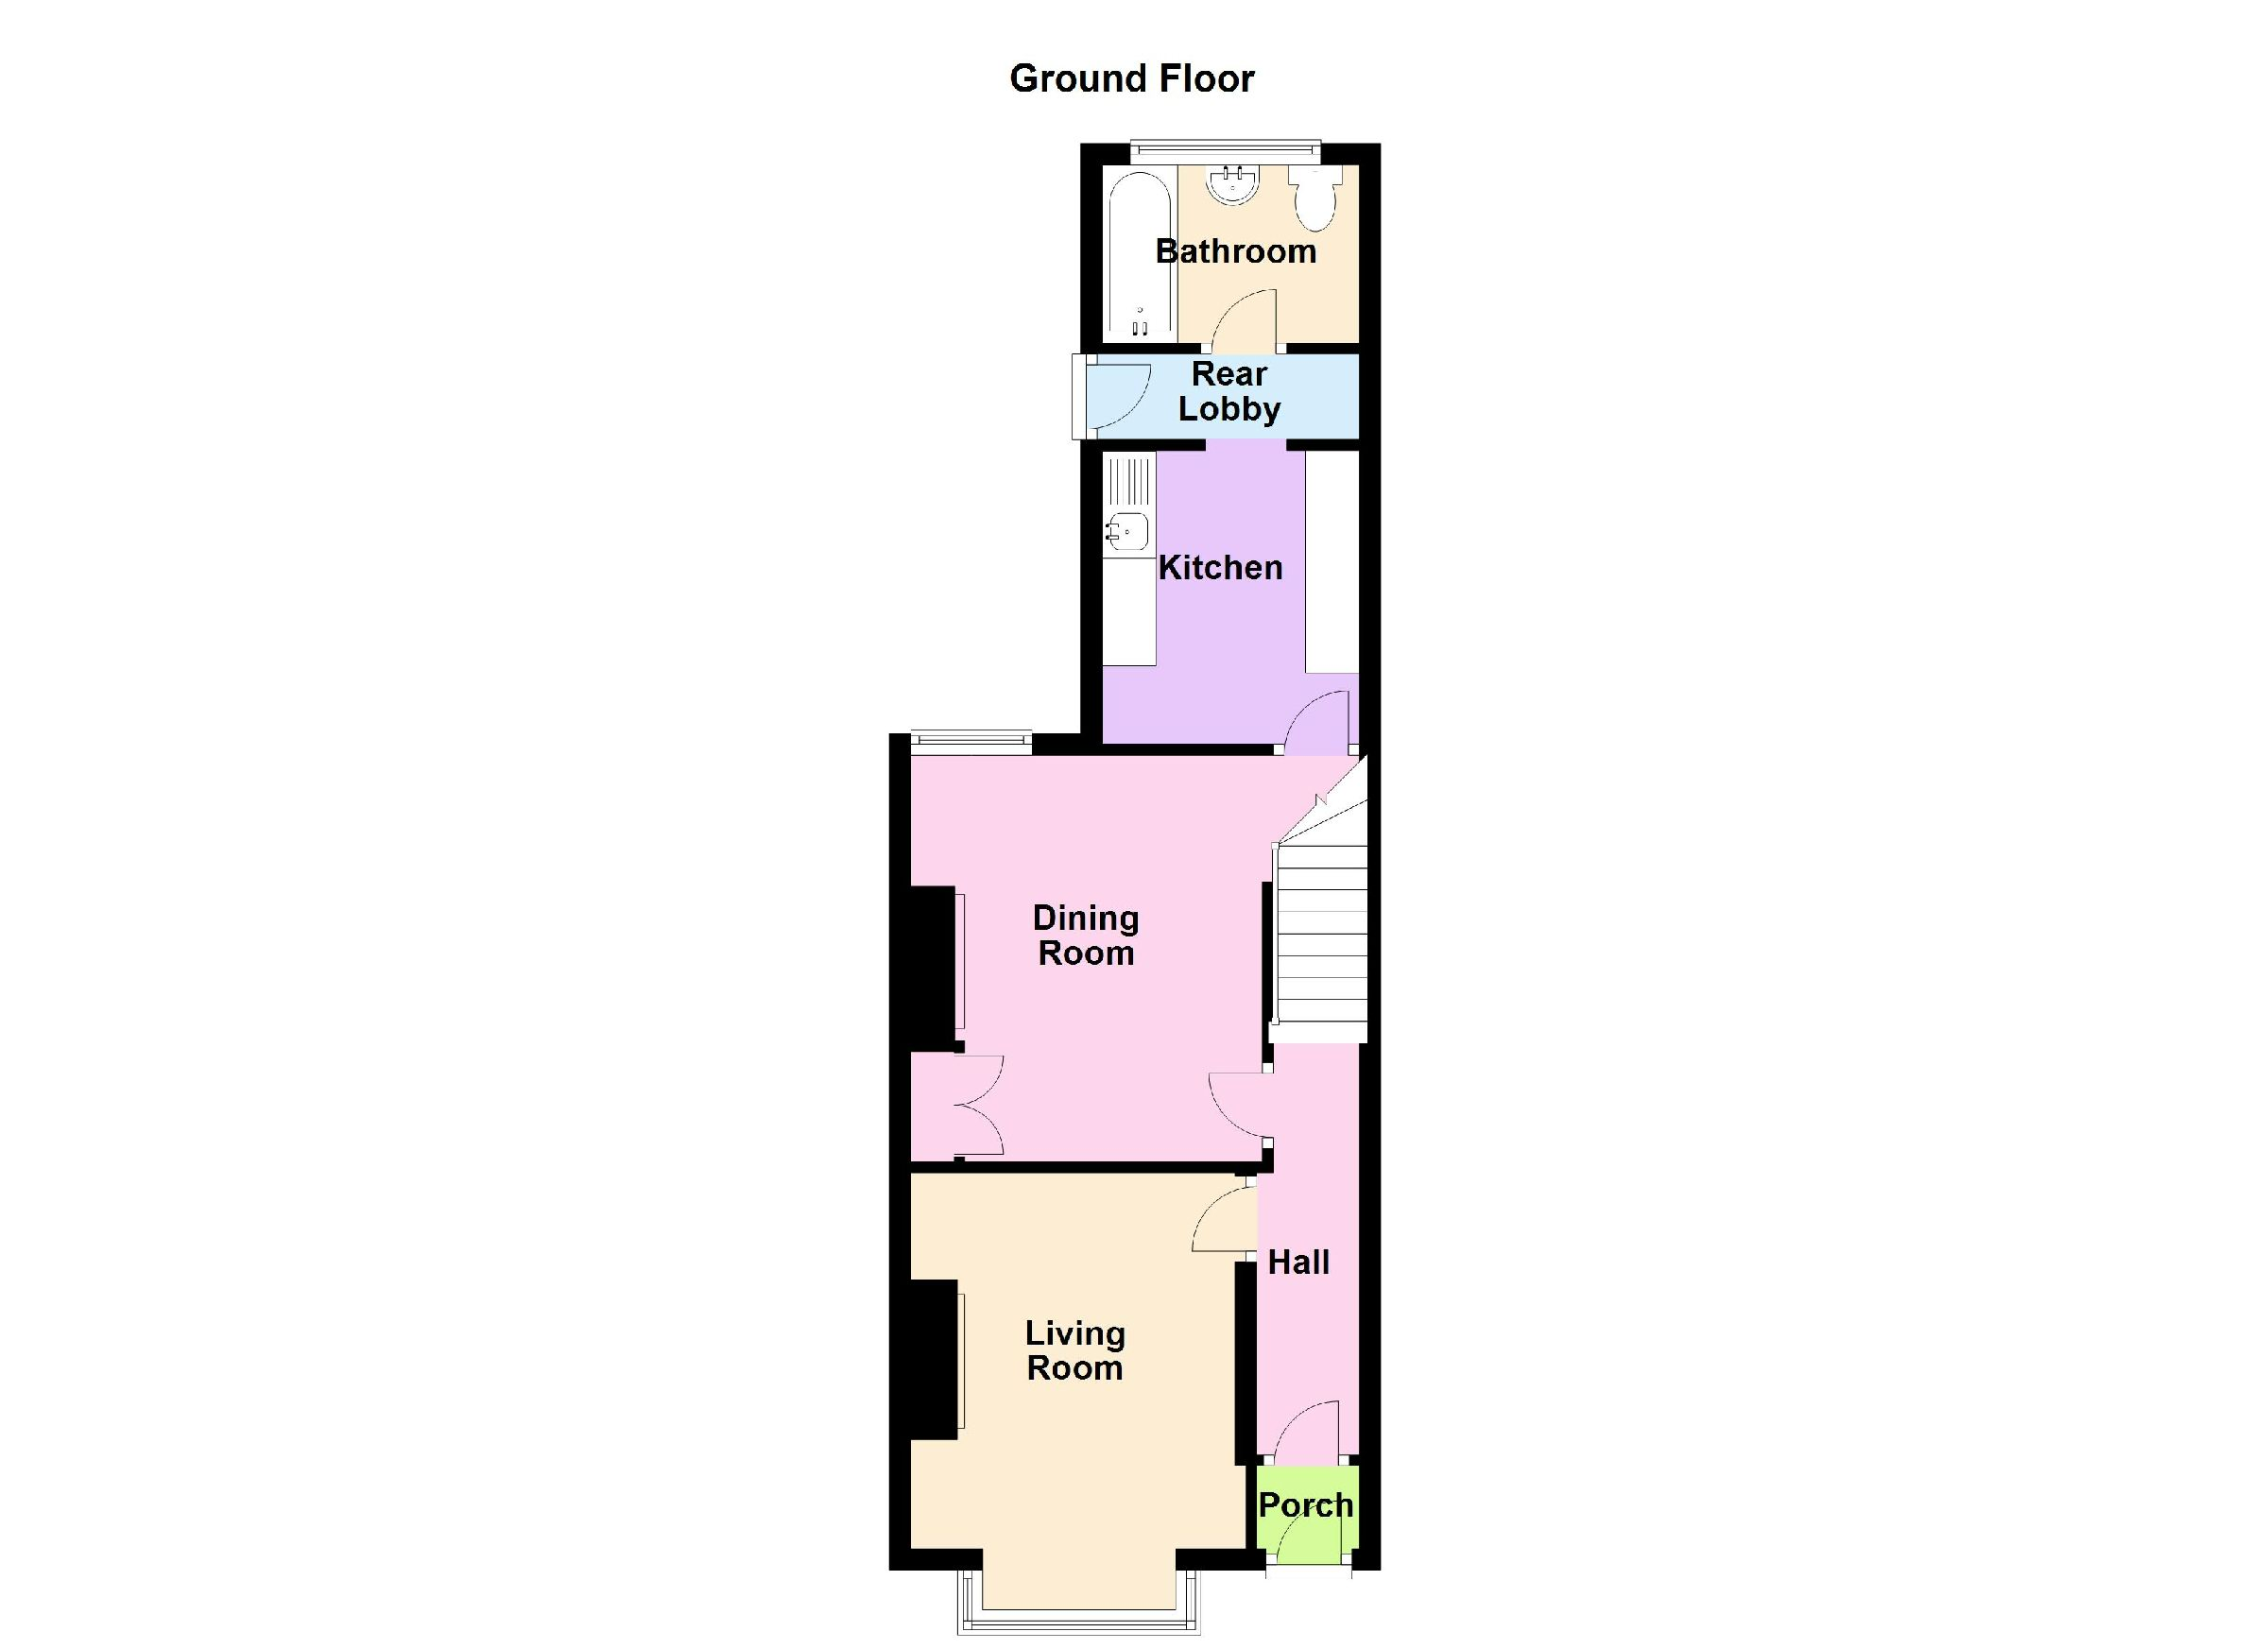door: (949, 1054, 1009, 1154), (1187, 1179, 1248, 1261), (1245, 259, 1305, 338), (1148, 368, 1206, 447), (1271, 1397, 1344, 1455), (1287, 684, 1351, 743), (1275, 1496, 1344, 1549), (1208, 1068, 1255, 1136)
